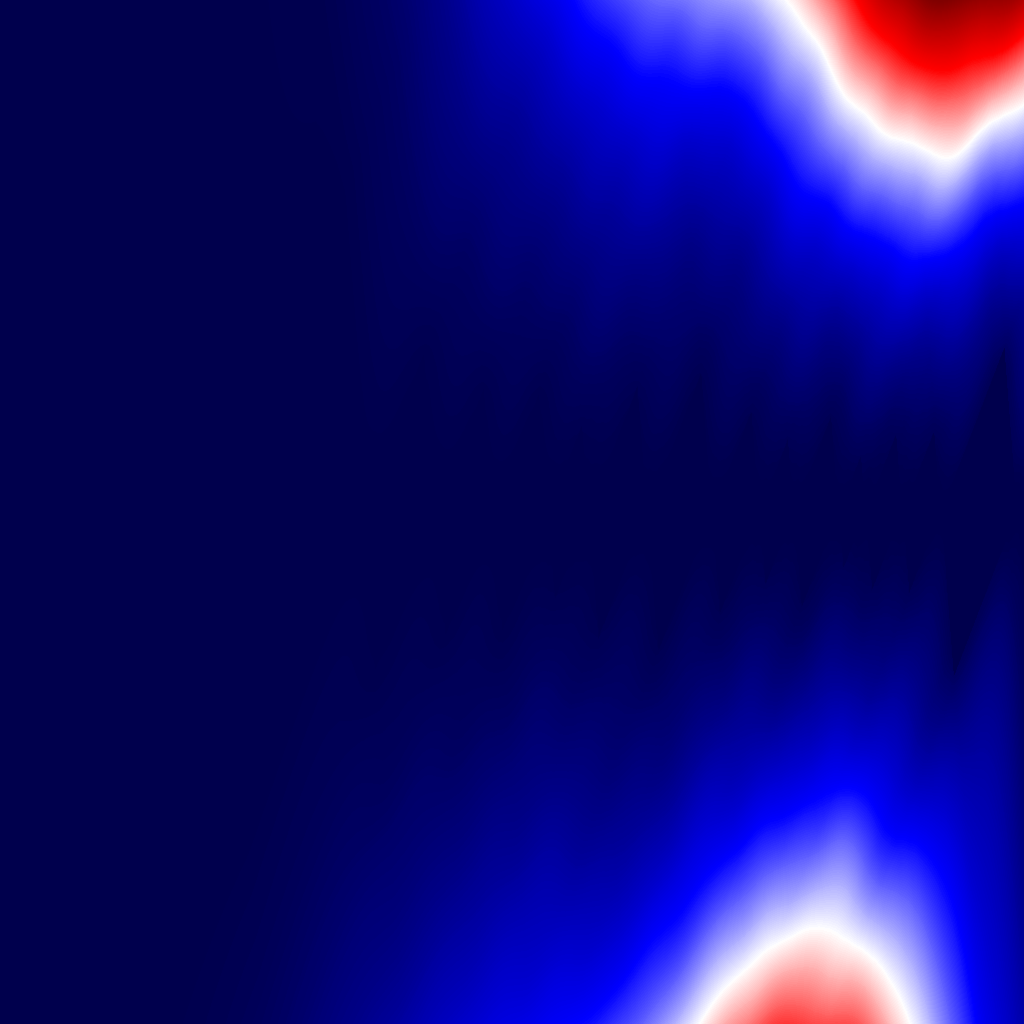diamond: (225, 205, 366, 819), (945, 345, 1021, 679), (366, 353, 439, 671), (651, 371, 715, 653), (593, 385, 651, 639), (439, 388, 496, 636), (497, 393, 551, 631), (716, 409, 763, 615), (798, 415, 842, 609), (552, 424, 592, 600), (906, 429, 944, 595), (870, 432, 906, 592), (763, 437, 797, 587), (843, 454, 869, 570)
